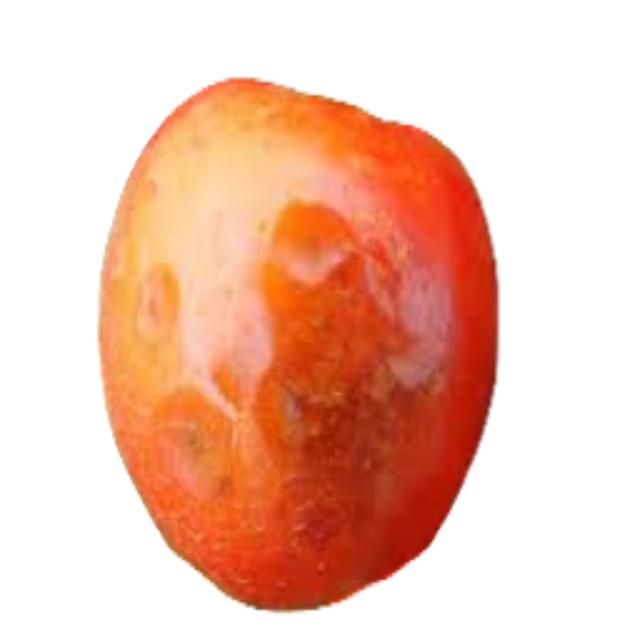defect: (94, 73, 505, 614)
